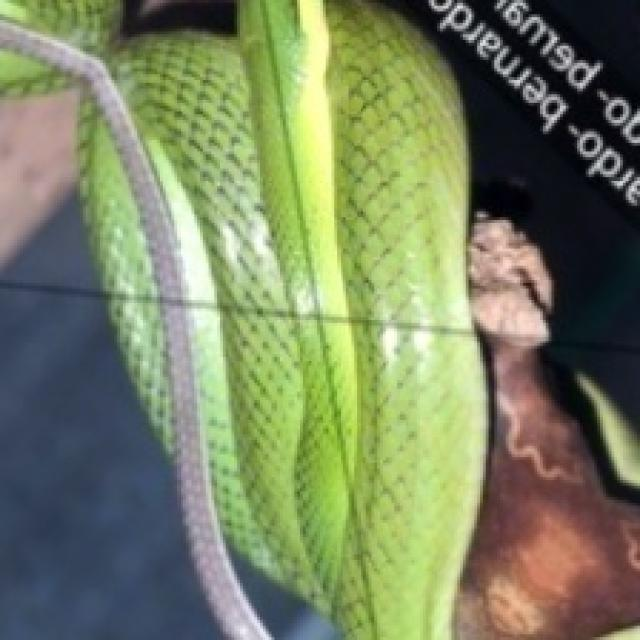red-tailed green ratsnake: (0, 0, 486, 637)
